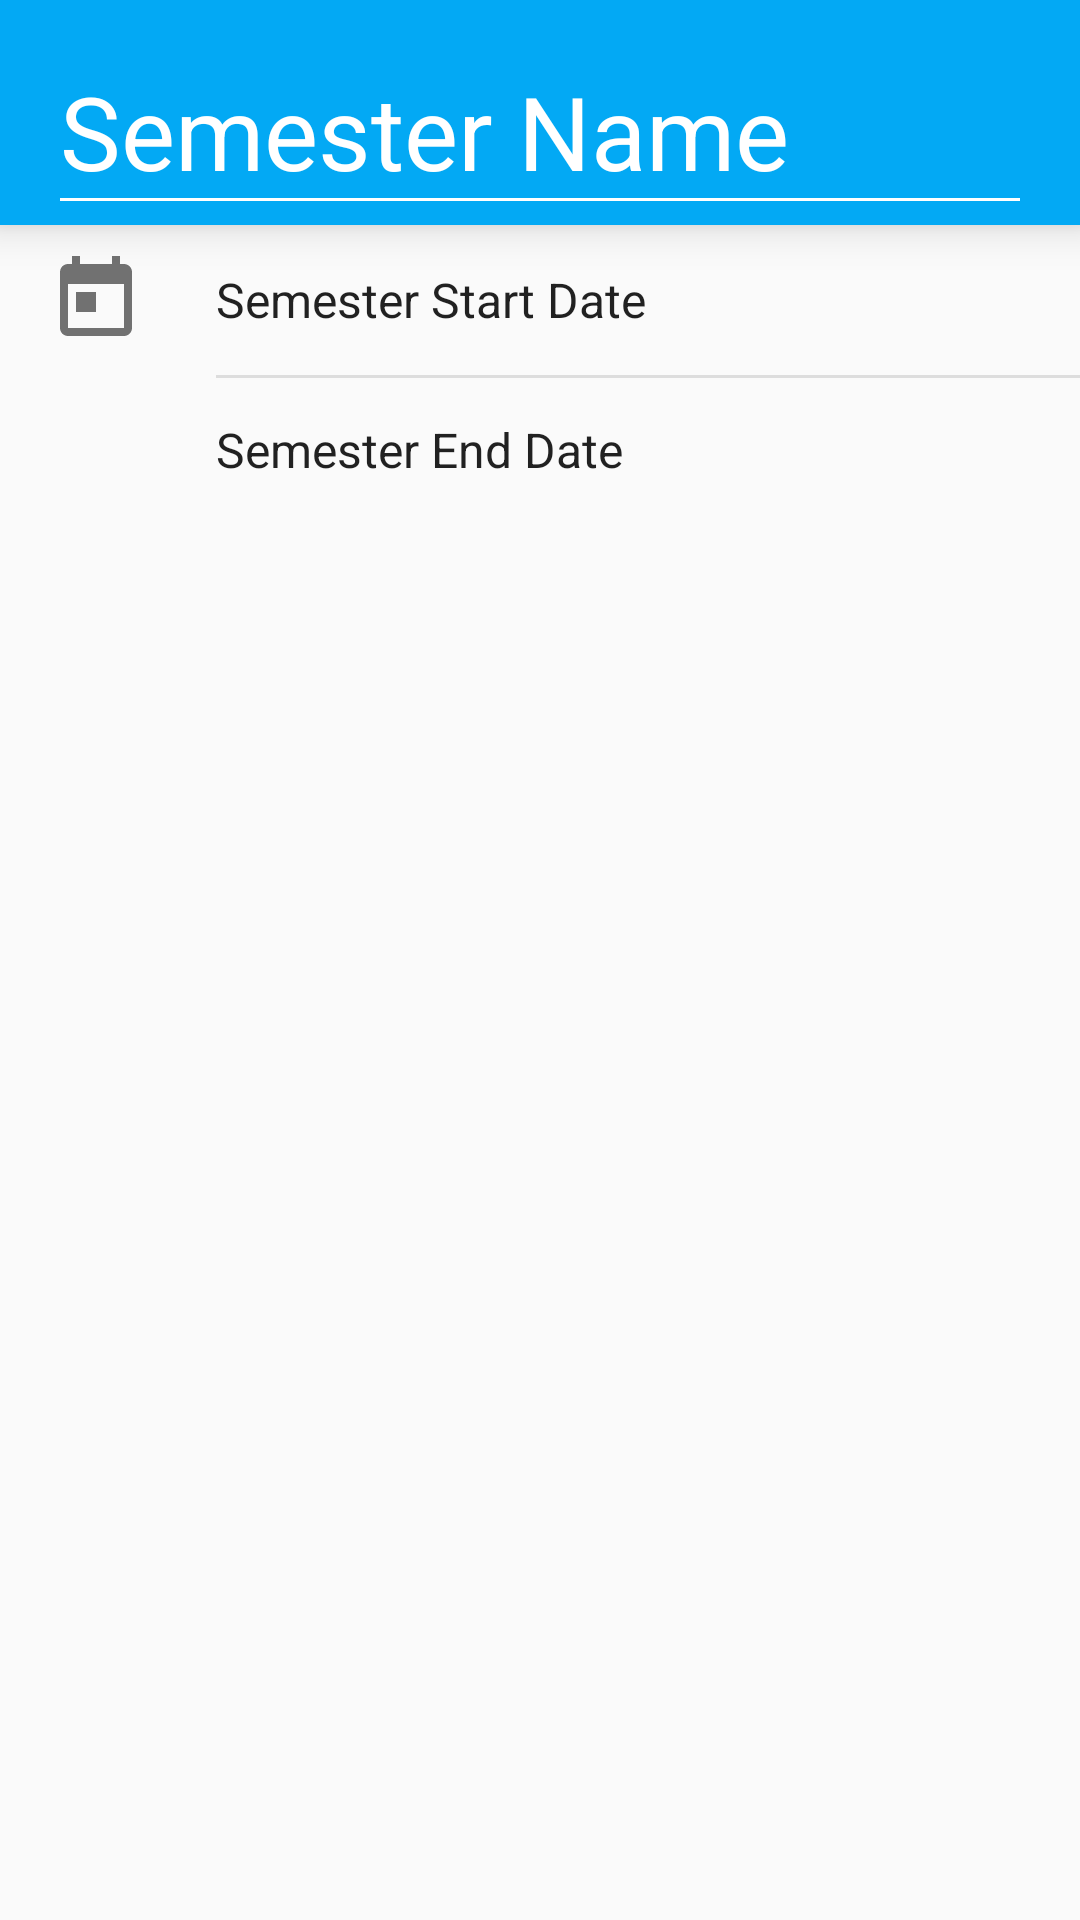

Icons on this 1080*1920 Android screen, each with the point to tap as [x,y]:
date today: [96,296]
